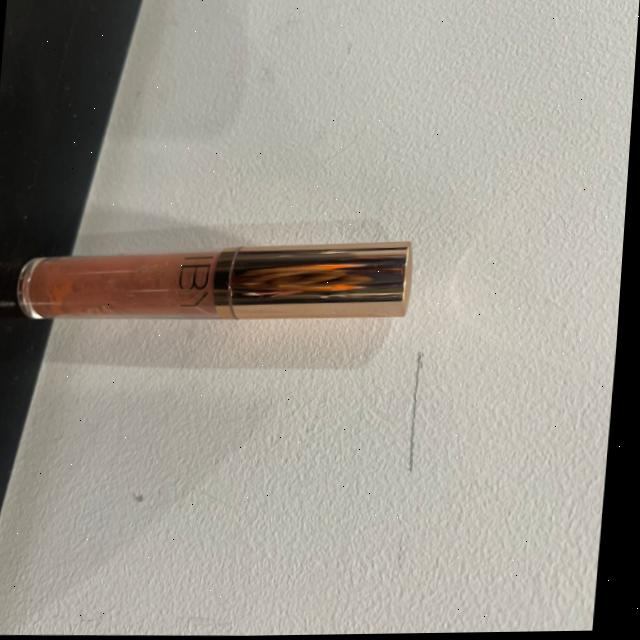lip gloss: (16, 213, 423, 351)
